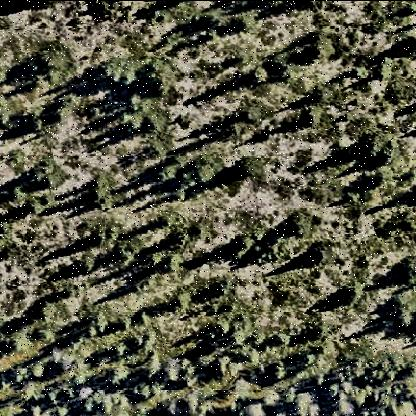tree-top: (119, 55, 166, 93), (33, 40, 72, 79), (85, 172, 118, 210), (355, 128, 389, 162), (189, 152, 222, 186), (141, 59, 171, 95), (99, 59, 133, 89), (284, 209, 314, 241), (28, 159, 58, 191), (391, 296, 416, 333), (223, 317, 254, 345), (231, 228, 258, 260), (292, 389, 323, 416), (304, 34, 332, 63), (234, 153, 264, 179), (196, 376, 223, 403), (237, 96, 263, 124), (202, 8, 230, 32), (232, 9, 258, 34), (306, 240, 330, 265), (338, 282, 364, 305), (246, 63, 270, 87), (160, 359, 182, 385), (72, 254, 96, 277), (301, 105, 323, 129), (397, 255, 416, 282), (29, 358, 49, 381), (34, 301, 56, 321), (71, 383, 91, 405), (393, 397, 416, 416), (373, 63, 393, 84), (241, 400, 267, 416), (109, 365, 132, 383), (25, 195, 45, 215), (30, 1, 56, 14), (170, 232, 186, 251)
